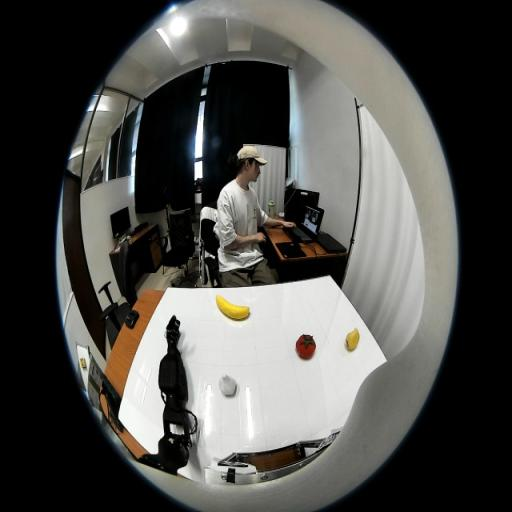Banana: (216, 293, 250, 320)
Duck: (345, 327, 360, 351)
LeftHand: (166, 333, 178, 347)
Onion: (218, 372, 236, 396)
Tomato: (296, 334, 316, 358)
